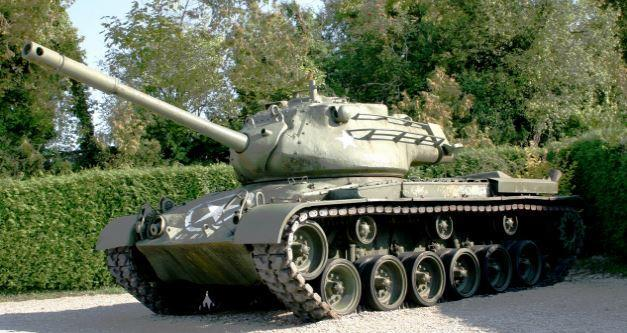tank: (21, 40, 588, 325)
